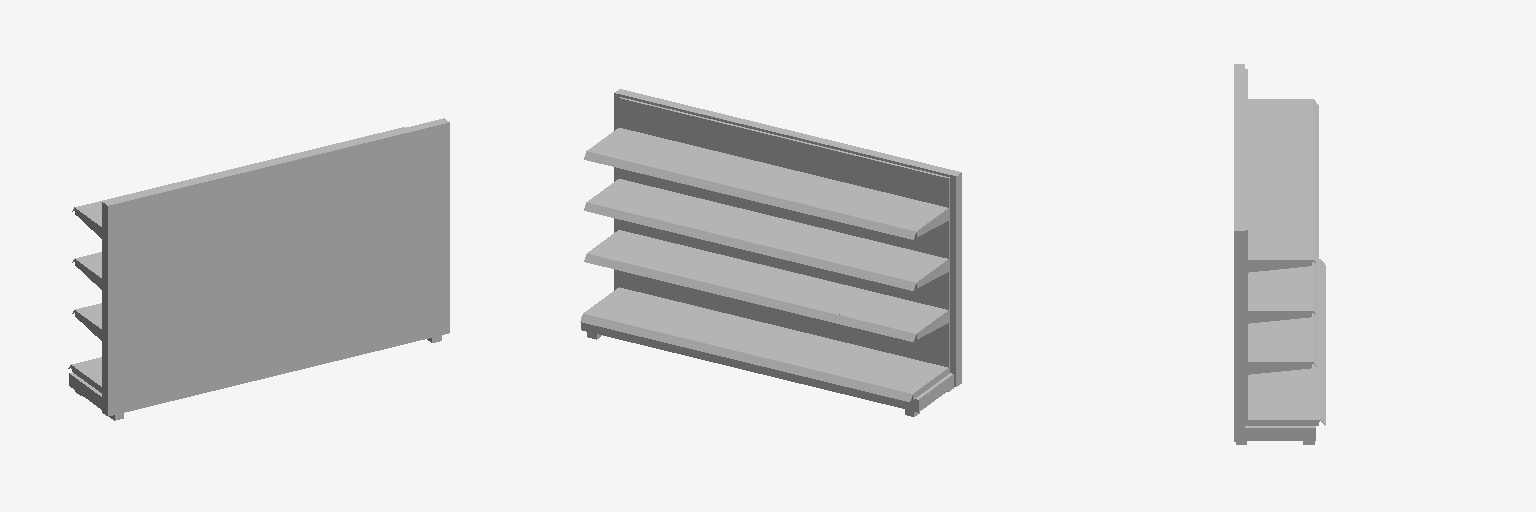
File: shelf.obj
The picture shows the model from 3 angles: view 1: azimuth 30°, elevation 25°; view 2: azimuth 150°, elevation 25°; view 3: azimuth 270°, elevation 25°; orthographic projection.
Parts seen in each view (by area): view 1: shelf; view 2: shelf; view 3: shelf.
Boxes of the visible parts, x1,y1,x2,y2 form: shelf: [68, 118, 449, 420]; shelf: [580, 89, 961, 416]; shelf: [1234, 64, 1325, 444].
Bounding box in the file's own units: 2.8 × 1.7 × 0.65.